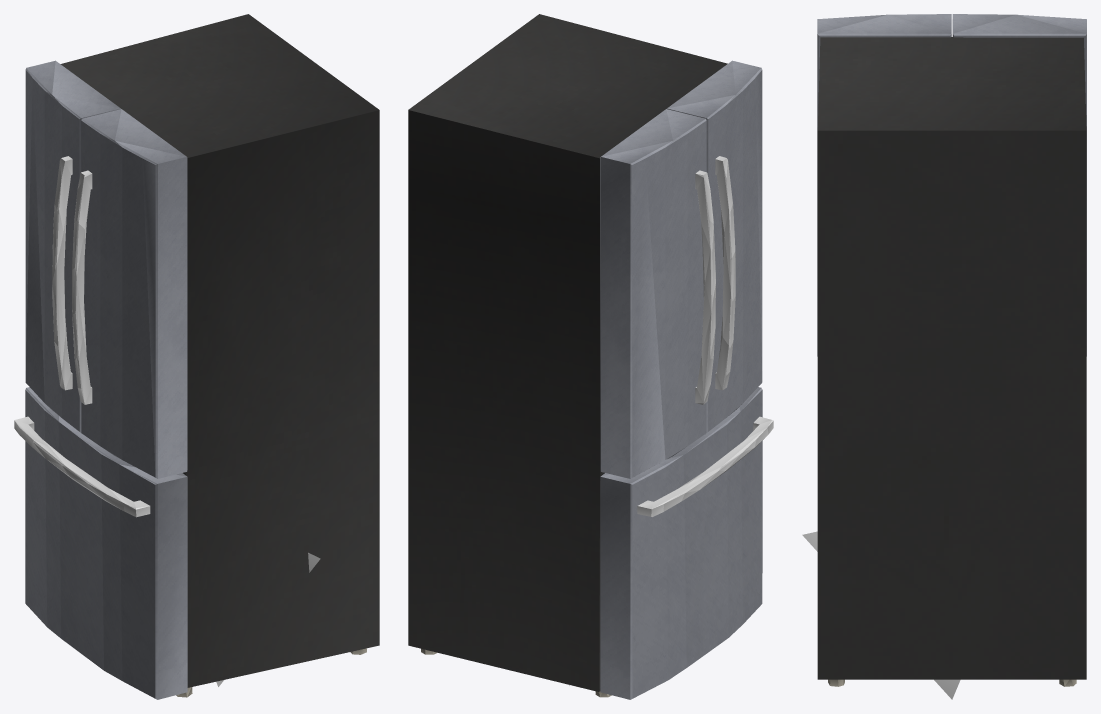
The model's file is fridge.glb.
The picture shows the model from 3 angles, left to right: view 1: azimuth 30°, elevation 25°; view 2: azimuth 150°, elevation 25°; view 3: azimuth 270°, elevation 25°; orthographic projection. The views are drawn at different scales.
Visible parts, largest first — view 1: Fridge_01, Door.Fridge.R, Drawer_Fridge, Door.Fridge.L, Handle_Fridge.001, Handle_Fridge.002, Handle_Fridge; view 2: Fridge_01, Door.Fridge.L, Drawer_Fridge, Door.Fridge.R, Handle_Fridge.001, Handle_Fridge.002, Handle_Fridge; view 3: Fridge_01, Door.Fridge.R, Door.Fridge.L, Freezer_Inside_Drawer.
Boxes of the visible parts, x1=… form: Fridge_01: x1=60, y1=14, x2=379, y2=687; Door.Fridge.R: x1=81, y1=109, x2=187, y2=478; Drawer_Fridge: x1=25, y1=387, x2=187, y2=699; Door.Fridge.L: x1=25, y1=60, x2=120, y2=432; Handle_Fridge.001: x1=52, y1=156, x2=72, y2=390; Handle_Fridge.002: x1=72, y1=170, x2=92, y2=404; Handle_Fridge: x1=14, y1=416, x2=150, y2=517; Fridge_01: x1=408, y1=14, x2=727, y2=691; Door.Fridge.L: x1=600, y1=109, x2=706, y2=478; Drawer_Fridge: x1=600, y1=387, x2=762, y2=699; Door.Fridge.R: x1=666, y1=60, x2=762, y2=432; Handle_Fridge.001: x1=695, y1=170, x2=715, y2=404; Handle_Fridge.002: x1=715, y1=156, x2=735, y2=390; Handle_Fridge: x1=637, y1=416, x2=773, y2=516; Fridge_01: x1=817, y1=37, x2=1086, y2=679; Door.Fridge.R: x1=817, y1=14, x2=951, y2=356; Door.Fridge.L: x1=952, y1=14, x2=1086, y2=356; Freezer_Inside_Drawer: x1=802, y1=531, x2=960, y2=699.
Size of the model in its own units: 0.8893 by 2.04 by 0.8536.
6 materials, 2 textured.
